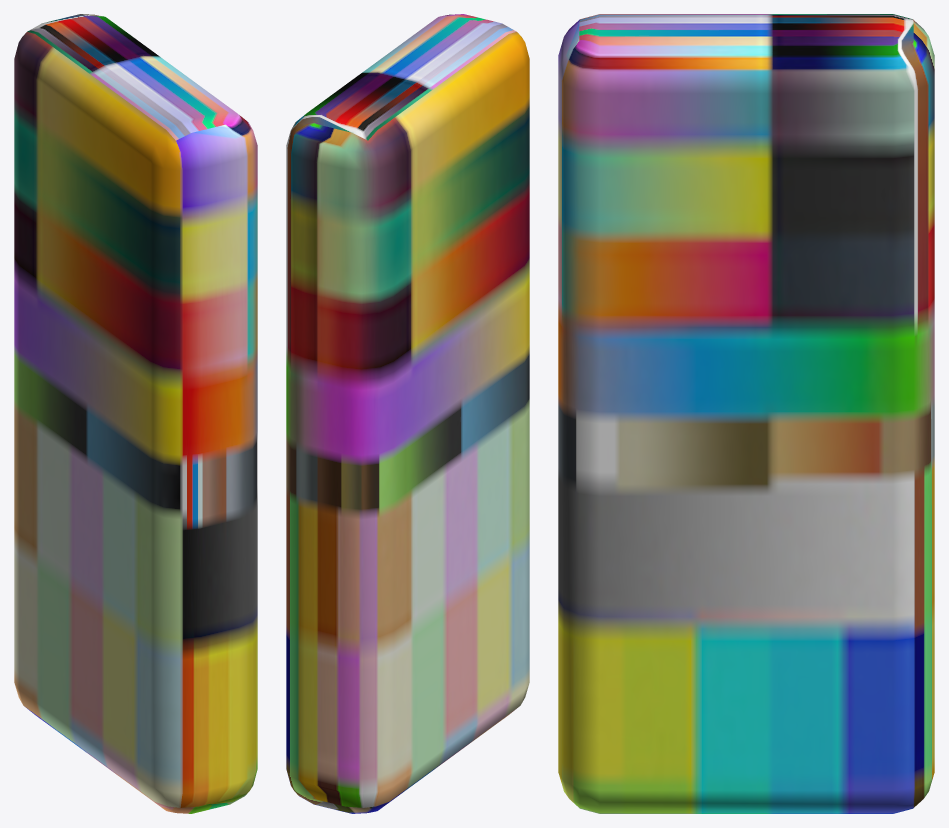
The model's file is TightTallCube.fbx.
3 views of the same model, side by side, from view 1: azimuth 30°, elevation 25°; view 2: azimuth 150°, elevation 25°; view 3: azimuth 270°, elevation 25° (orthographic). The views are drawn at different scales.
Parts seen in each view (by area): view 1: Cube.003; view 2: Cube.003; view 3: Cube.003.
Part boxes in pixels (x1,y1,x2,y2): Cube.003: (14,14,257,813); Cube.003: (286,14,529,813); Cube.003: (558,14,934,813).
Bounding box in the file's own units: 0.7036 × 4.53 × 2.
